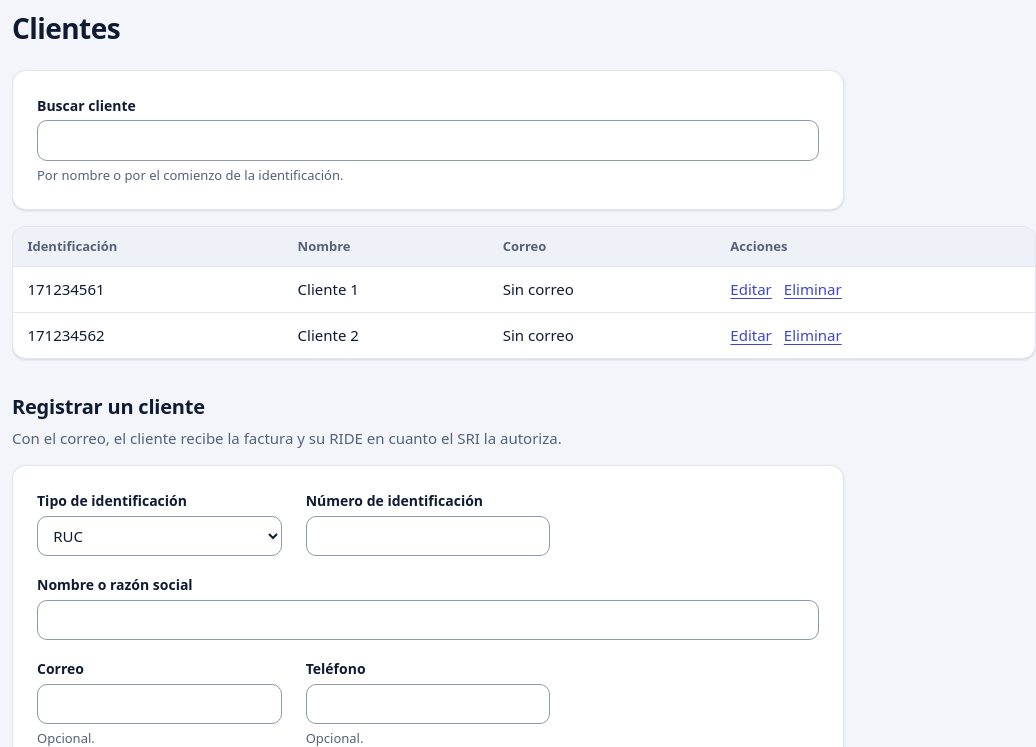
Clientes › searches once the user stops typing
The width and height of the screenshot is (1036, 747).
expect the text "Cliente 2" is shown: met, box [283,313,488,358]
Type "mar" into the search field labelled "Buscar cliente" at (428, 141), box [37,120,819,161]
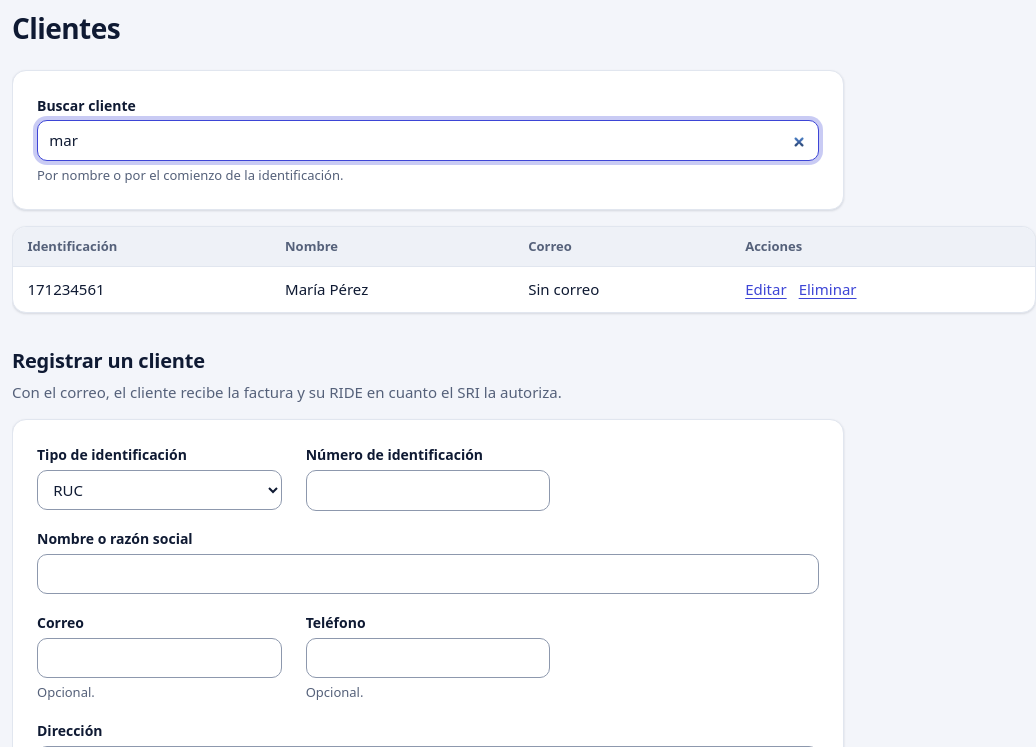
expect the text "María Pérez" is shown: met, box [271,267,514,312]
expect the text "Cliente 2" is gone: met
